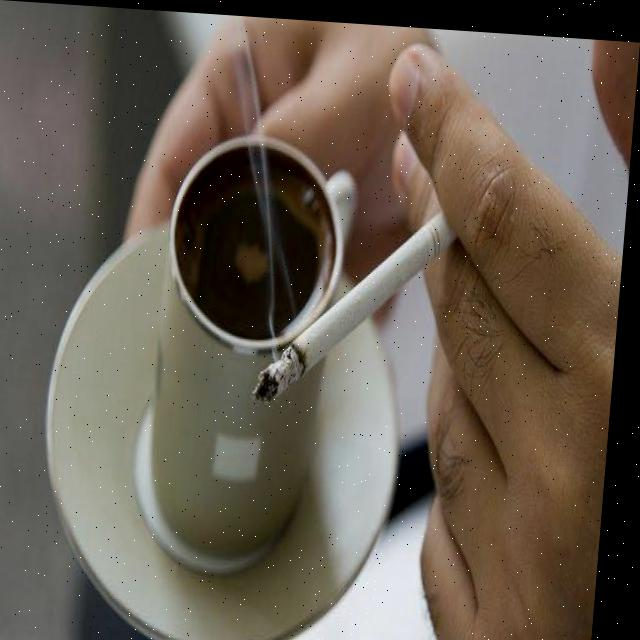cigarette: (257, 196, 449, 409)
